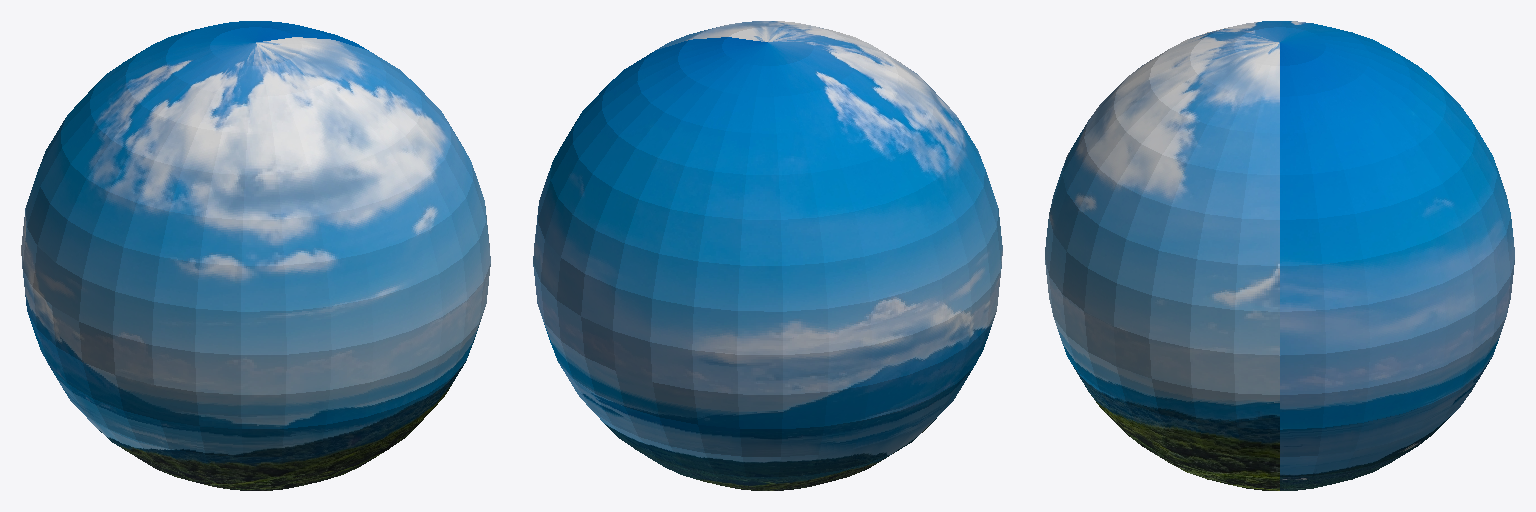
The picture shows the model from 3 angles: view 1: azimuth 30°, elevation 25°; view 2: azimuth 150°, elevation 25°; view 3: azimuth 270°, elevation 25°; orthographic projection.
Parts seen in each view (by area): view 1: 球; view 2: 球; view 3: 球.
Boxes of the visible parts, <box> form: 球: <box>21,21,490,490</box>; 球: <box>533,21,1002,490</box>; 球: <box>1045,21,1514,490</box>.
Bounding box in the file's own units: 100 × 100 × 100.
Materials: 1 (1 with a texture image).